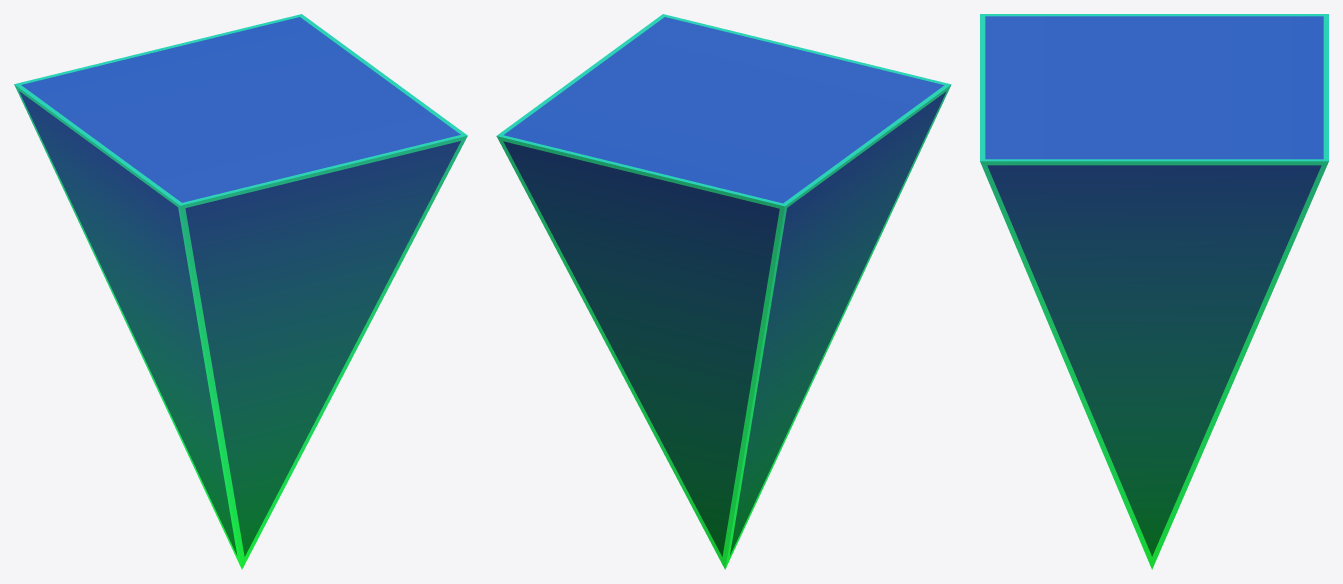
The model's file is yizhuang_cross_2.glb.
3 renders of one model, left to right at view 1: azimuth 30°, elevation 25°; view 2: azimuth 150°, elevation 25°; view 3: azimuth 270°, elevation 25°, orthographic. The views are drawn at different scales.
Parts seen in each view (by area): view 1: Cube, Cube.001; view 2: Cube, Cube.001; view 3: Cube, Cube.001.
Boxes of the visible parts, x1,y1,x2,y2 form: Cube: (19, 17, 460, 556); Cube.001: (14, 14, 467, 569); Cube: (503, 17, 946, 556); Cube.001: (496, 14, 951, 569); Cube: (985, 16, 1323, 556); Cube.001: (980, 14, 1328, 569).
Bounding box in the file's own units: 9.77 × 14.9 × 9.77.
